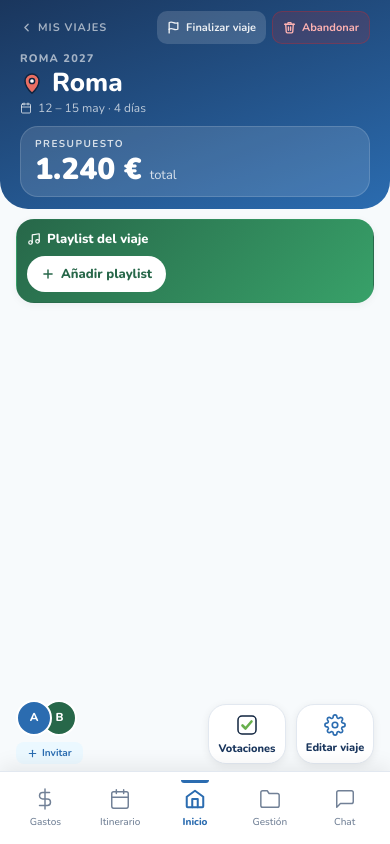
Test case: InicioViaje · abandonar el viaje › si le deben dinero, el aviso lo dice
Click the button "Abandonar" at (321, 28), box x1=272 y1=11 x2=370 y2=44
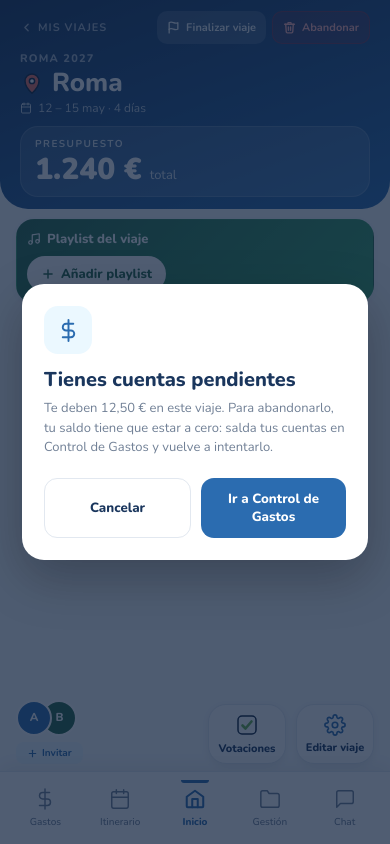
Check: the dialog shows "Te deben 12,50 € en este viaje.", box x1=44 y1=399 x2=225 y2=417
